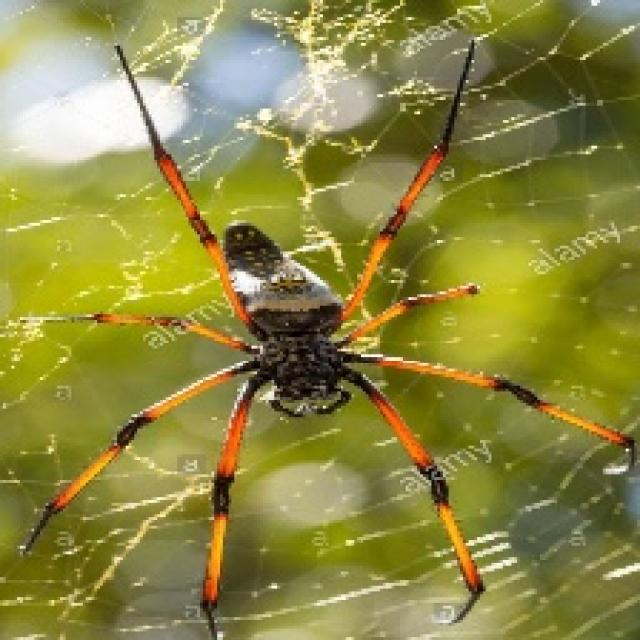Non venomous spider: (80, 24, 550, 596)
